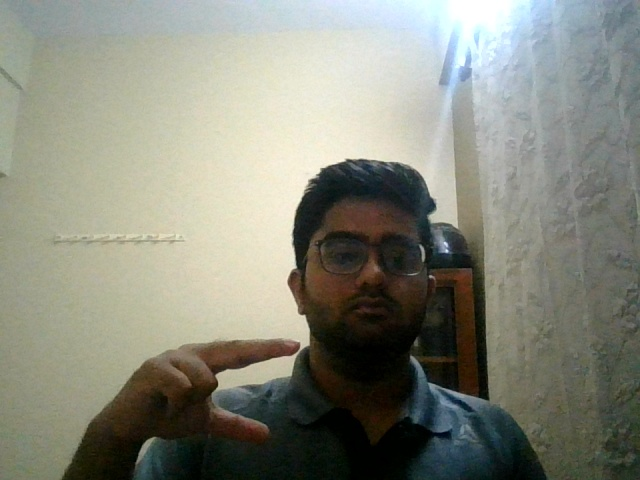No: (58, 308, 314, 460)
